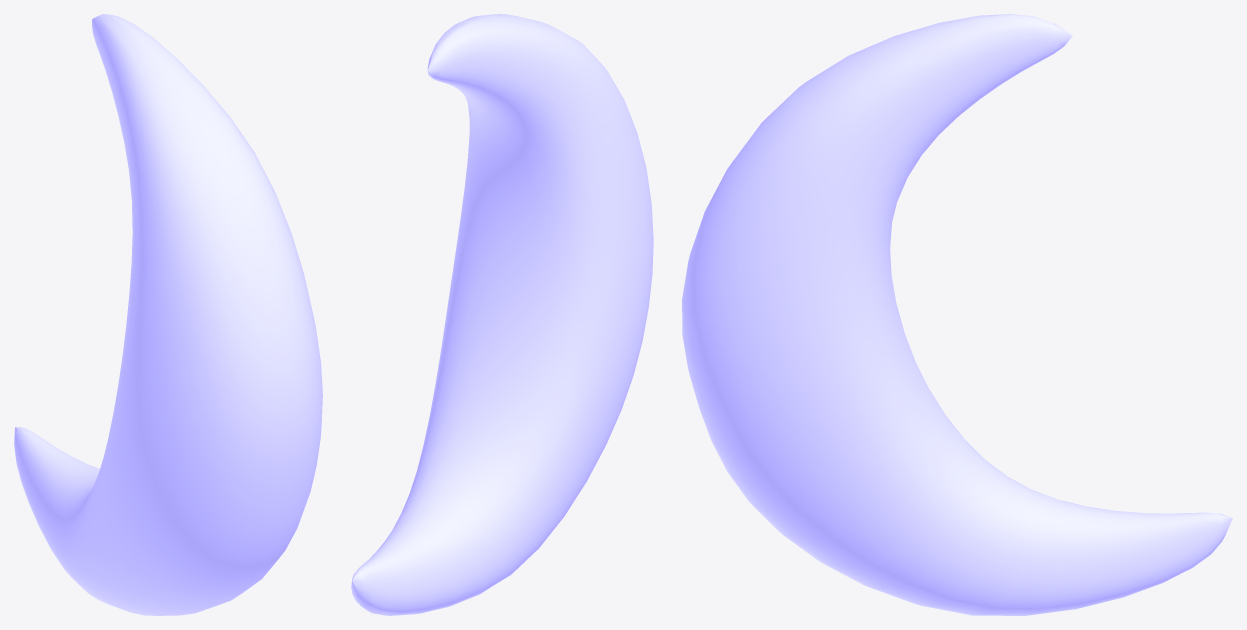
Rendered from Moon.fbx.
The picture shows the model from 3 angles, left to right: view 1: azimuth 30°, elevation 25°; view 2: azimuth 150°, elevation 25°; view 3: azimuth 270°, elevation 25°; orthographic projection. The views are drawn at different scales.
Parts seen in each view (by area): view 1: Sphere; view 2: Sphere; view 3: Sphere.
Part boxes in pixels (x1=…): Sphere: x1=14, y1=14, x2=322, y2=615; Sphere: x1=351, y1=14, x2=653, y2=615; Sphere: x1=682, y1=14, x2=1232, y2=615.
Size of the model in its own units: 131 by 420 by 354.
